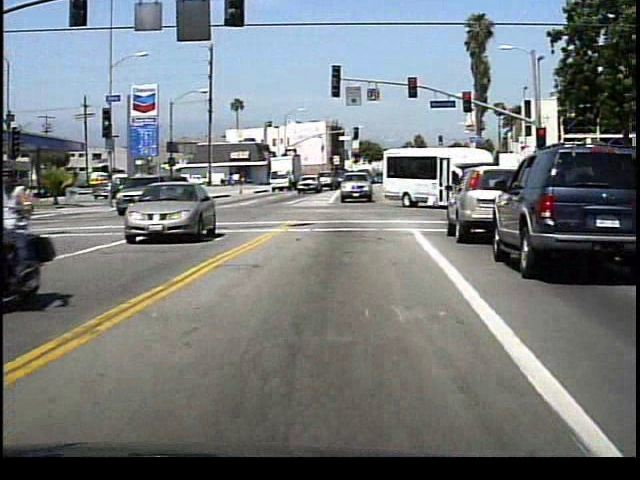person: (2, 154, 77, 298)
